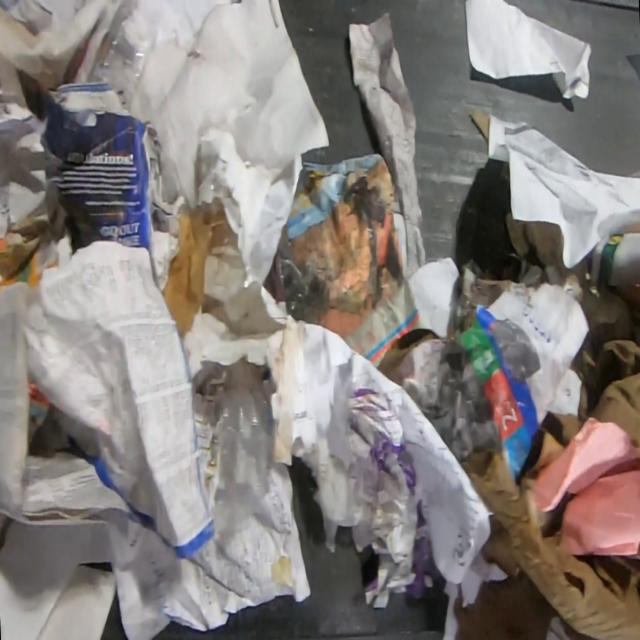cardboard: (453, 429, 640, 640), (551, 257, 640, 451), (503, 211, 568, 288)
rigid_plastic: (89, 5, 154, 117)
soft_plastic: (190, 376, 272, 530)
